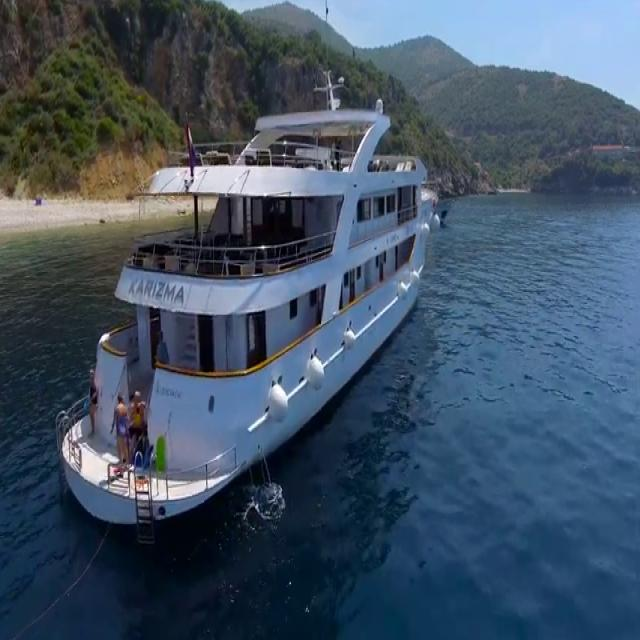passenger ship: (41, 84, 438, 513)
